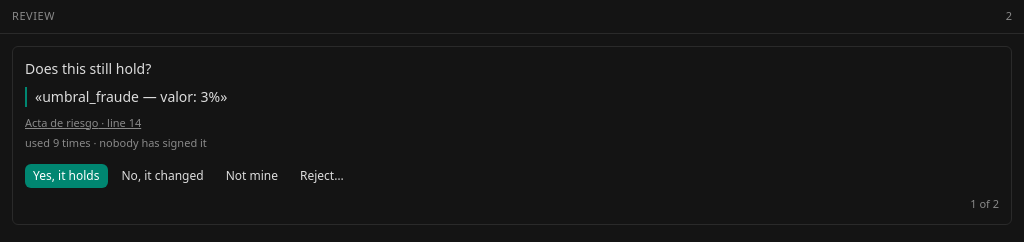
Test: ReviewView › "yes, it holds" answers and moves straight to the next card
Expected: the text "«umbral_fraude — valor: 3%»" is shown, [25, 86, 999, 106]
Click the button "Yes, it holds" at (66, 176), box [25, 164, 108, 188]
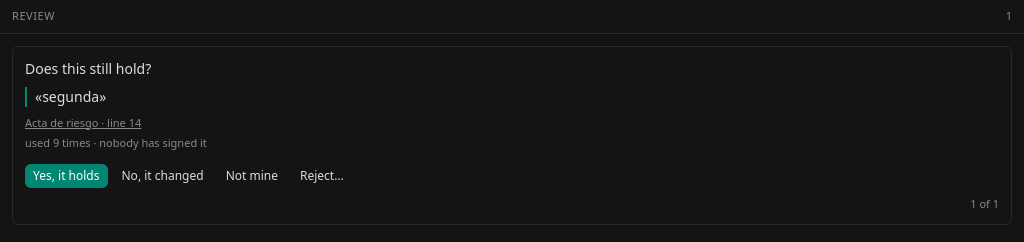
Expected: the text "«segunda»" is shown, [25, 86, 999, 106]
